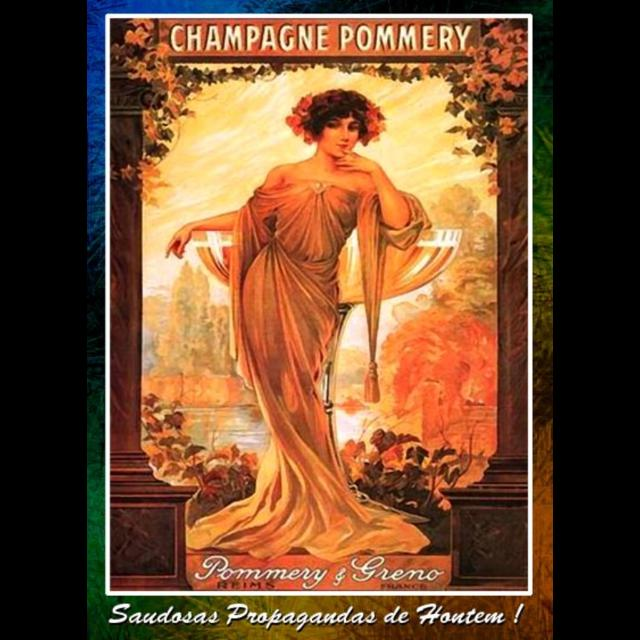Flower: (448, 14, 532, 198), (119, 41, 199, 206), (130, 26, 144, 42)
